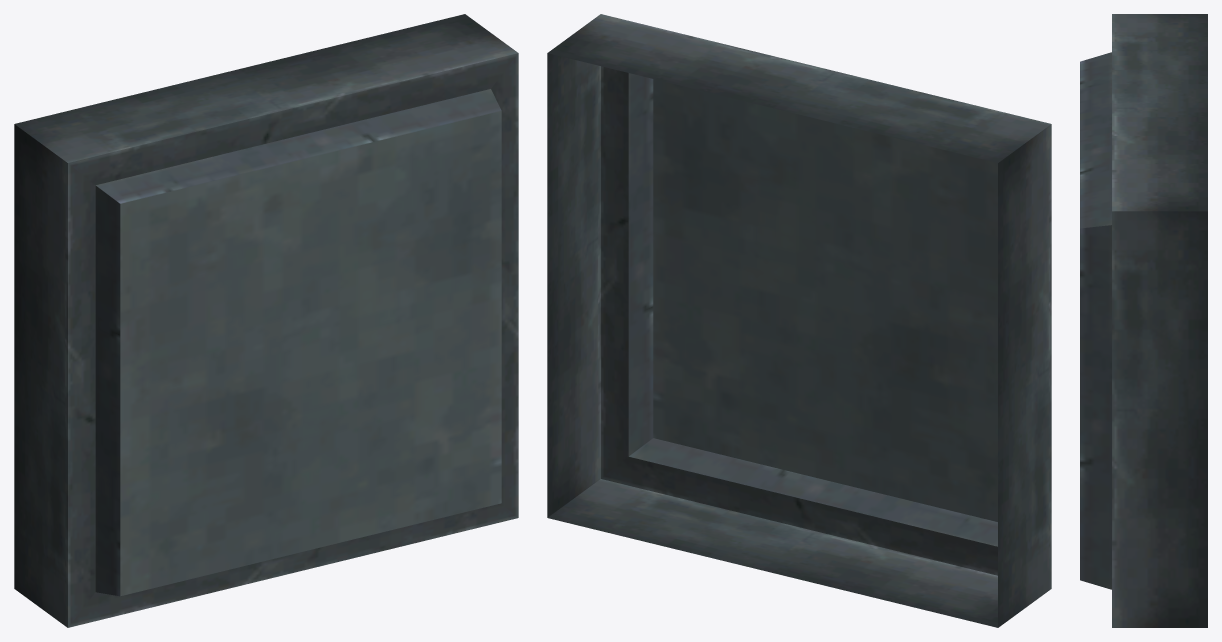
File: aiji_fuben_231_wall_3.obj
3 renders of one model, left to right at view 1: azimuth 30°, elevation 25°; view 2: azimuth 150°, elevation 25°; view 3: azimuth 270°, elevation 25°, orthographic. The views are drawn at different scales.
Parts seen in each view (by area): view 1: Box01; view 2: Box01; view 3: Box01.
Part boxes in pixels (x1,y1,x2,y2): Box01: [14, 14, 518, 627]; Box01: [547, 14, 1051, 627]; Box01: [1080, 14, 1207, 627].
Bounding box in the file's own units: 249 × 245 × 68.08.
2 materials, 2 textured.
